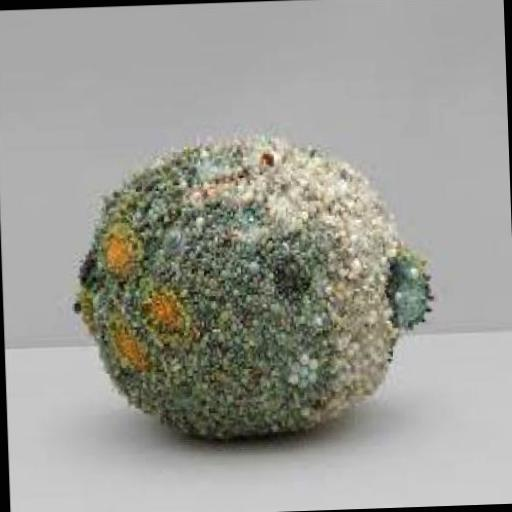biodegradable: (66, 121, 438, 437)
